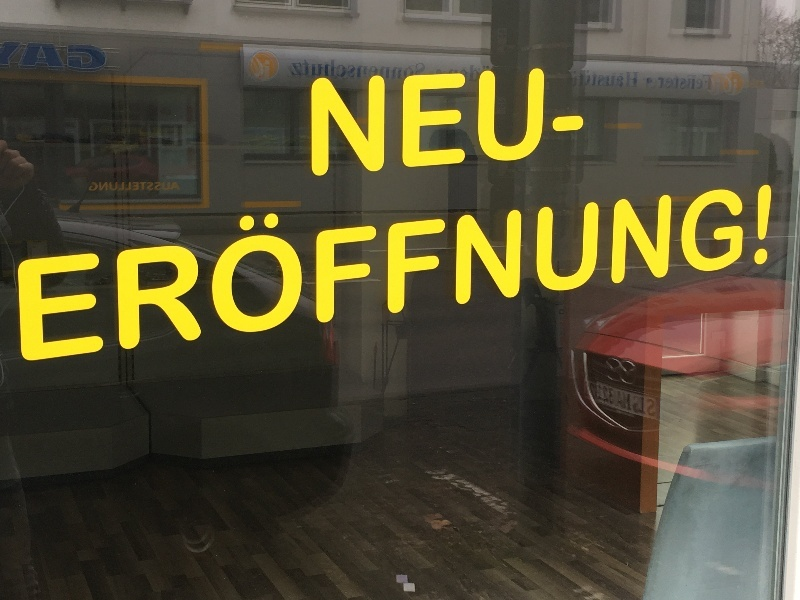text: (17, 162, 32, 368), (33, 162, 48, 368), (49, 162, 64, 368), (65, 162, 80, 368), (81, 162, 96, 368), (97, 162, 112, 368), (113, 162, 128, 368), (129, 162, 144, 368), (145, 162, 160, 368), (161, 162, 176, 368), (177, 162, 192, 368), (193, 162, 208, 368), (209, 162, 224, 368), (225, 162, 240, 368), (241, 162, 256, 368), (257, 162, 272, 368), (273, 162, 288, 368), (289, 162, 304, 368), (305, 162, 320, 368), (321, 162, 336, 368), (337, 162, 352, 368), (353, 162, 368, 368), (369, 162, 384, 368), (385, 162, 400, 368), (401, 162, 416, 368), (417, 162, 432, 368), (433, 162, 448, 368), (449, 162, 464, 368), (465, 162, 480, 368), (481, 162, 496, 368), (497, 162, 512, 368), (513, 162, 528, 368), (529, 162, 544, 368), (545, 162, 560, 368), (561, 162, 576, 368), (577, 162, 592, 368), (593, 162, 608, 368), (609, 162, 624, 368), (625, 162, 640, 368), (641, 162, 656, 368), (657, 162, 672, 368), (673, 162, 688, 368), (689, 162, 704, 368), (705, 162, 720, 368), (721, 162, 736, 368), (737, 162, 752, 368), (753, 162, 768, 368), (321, 63, 336, 181), (337, 63, 352, 181), (353, 63, 368, 181), (369, 63, 384, 181), (385, 63, 400, 181), (401, 63, 416, 181), (417, 63, 432, 181), (433, 63, 448, 181), (449, 63, 464, 181), (465, 63, 480, 181), (481, 63, 496, 181), (497, 63, 512, 181), (513, 63, 528, 181), (529, 63, 544, 181), (545, 63, 560, 181), (561, 63, 576, 181), (307, 63, 320, 181), (577, 63, 590, 181), (769, 162, 776, 368), (12, 162, 16, 368), (593, 380, 608, 420), (609, 380, 624, 420), (625, 380, 640, 420), (641, 380, 656, 420), (1, 41, 16, 74), (17, 41, 32, 74), (33, 41, 48, 74), (49, 41, 64, 74), (65, 41, 80, 74), (81, 41, 96, 74), (577, 70, 592, 99), (593, 70, 608, 99), (609, 70, 624, 99), (625, 70, 640, 99), (641, 70, 656, 99), (657, 70, 672, 99), (673, 70, 688, 99), (689, 70, 704, 99), (705, 70, 720, 99), (721, 70, 736, 99), (257, 54, 273, 81), (97, 41, 110, 74), (305, 58, 320, 83), (321, 58, 336, 83), (337, 58, 352, 83), (353, 58, 368, 83), (369, 58, 384, 83), (385, 58, 400, 83), (401, 58, 416, 83), (417, 58, 432, 83), (433, 58, 448, 83), (449, 58, 464, 83), (465, 58, 480, 83), (290, 58, 304, 83), (584, 380, 592, 420), (481, 58, 493, 83), (97, 179, 112, 193), (113, 179, 128, 193), (129, 179, 144, 193), (145, 179, 160, 193), (161, 179, 176, 193), (249, 54, 256, 81), (570, 70, 576, 99), (89, 179, 96, 193), (177, 179, 182, 193), (737, 70, 739, 99)
